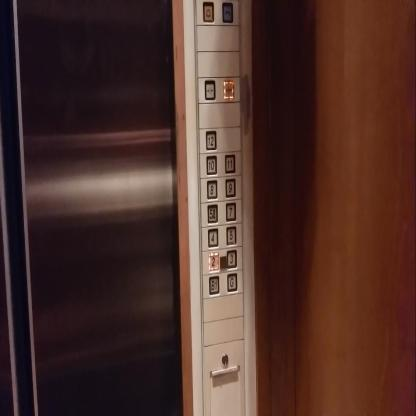10: (205, 154, 217, 176)
11: (224, 152, 235, 174)
12: (204, 130, 216, 151)
2: (207, 251, 219, 271)
3: (226, 249, 237, 269)
4: (207, 228, 218, 248)
5: (225, 225, 236, 245)
5A: (206, 203, 218, 224)
7: (225, 201, 236, 221)
8: (206, 179, 218, 200)
9: (224, 177, 236, 198)
B1: (208, 275, 219, 295)
G: (226, 272, 237, 292)
alarm: (202, 0, 215, 24)
call: (221, 0, 233, 22)
close: (223, 79, 234, 100)
keyhole: (220, 350, 230, 368)
open: (203, 79, 216, 100)
